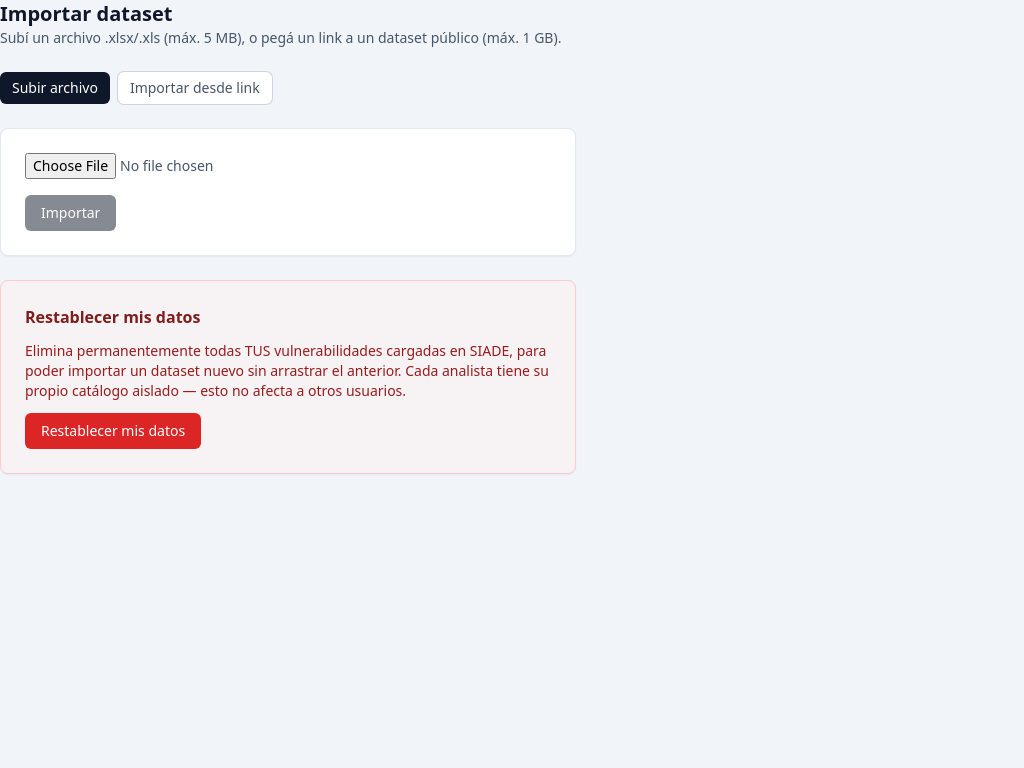
Test case: ImportarDatasetPage — "Restablecer mis datos" (disponible para cualquier analista) › cancelar el modal no ejecuta el borrado
The width and height of the screenshot is (1024, 768).
Click the button "Restablecer mis datos" at (113,431), box [25,413,201,449]
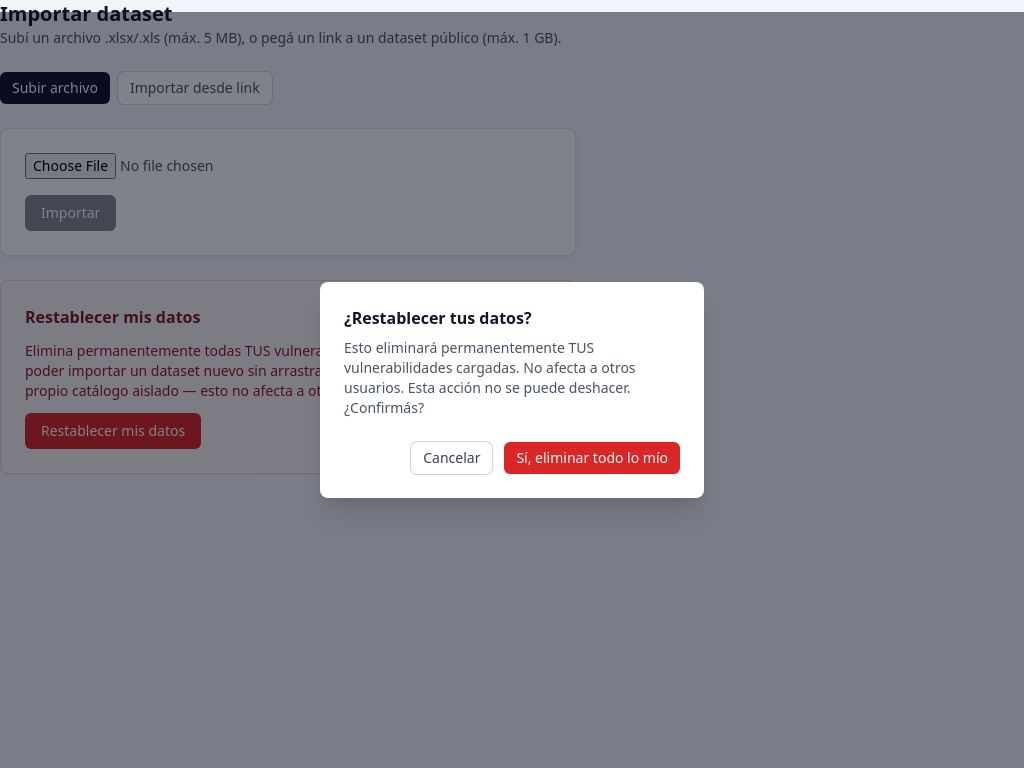
Click the button "Cancelar" at (452,458), box [411,442,492,474]
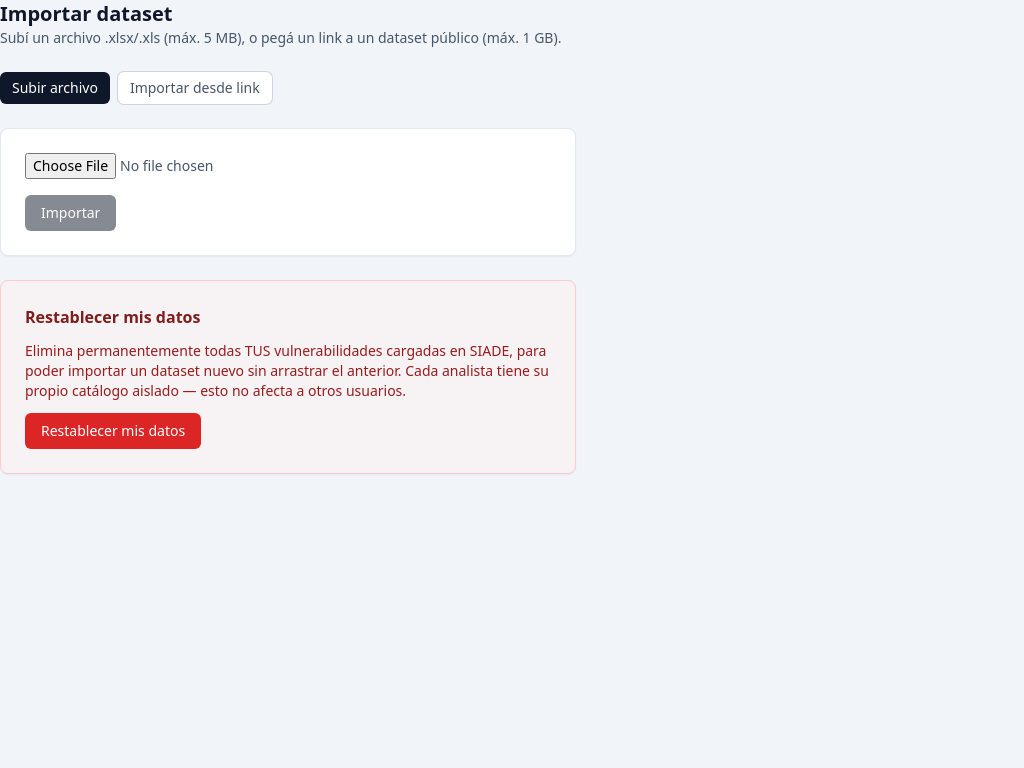
Now the dialog is gone
